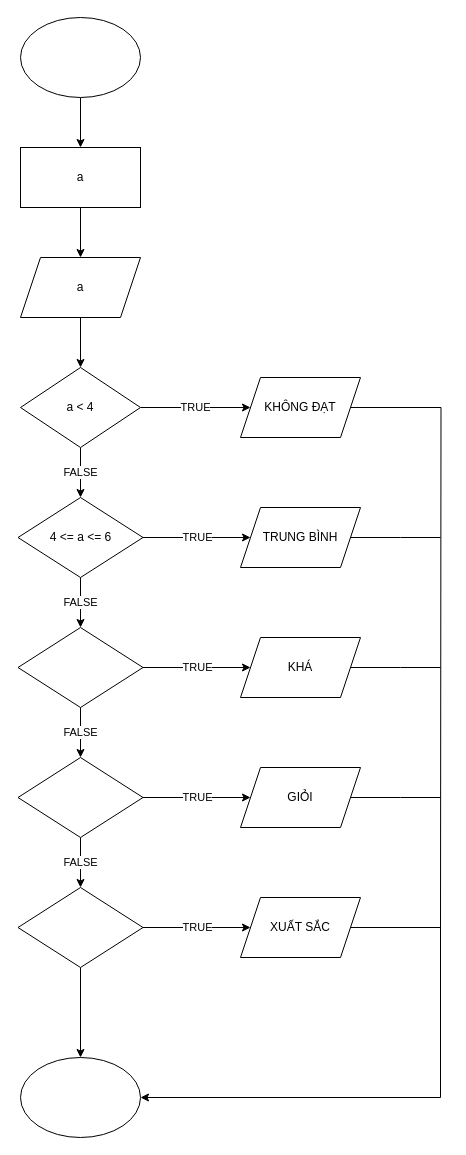
Some shapes in this 466 by 1155 pixel diagram are drawn without their labels. Here are the shapes that lost their labels. From the top down, the centre of each, then its label:
At pixel 80 57: "Start".
At pixel 80 667: "6 <= a <= 8".
At pixel 80 797: "8 <= a <= 9".
At pixel 80 927: "9 < a <= 10".
At pixel 80 1097: "End".
